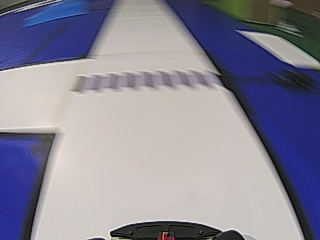CrossWalk: (72, 69, 210, 92)
